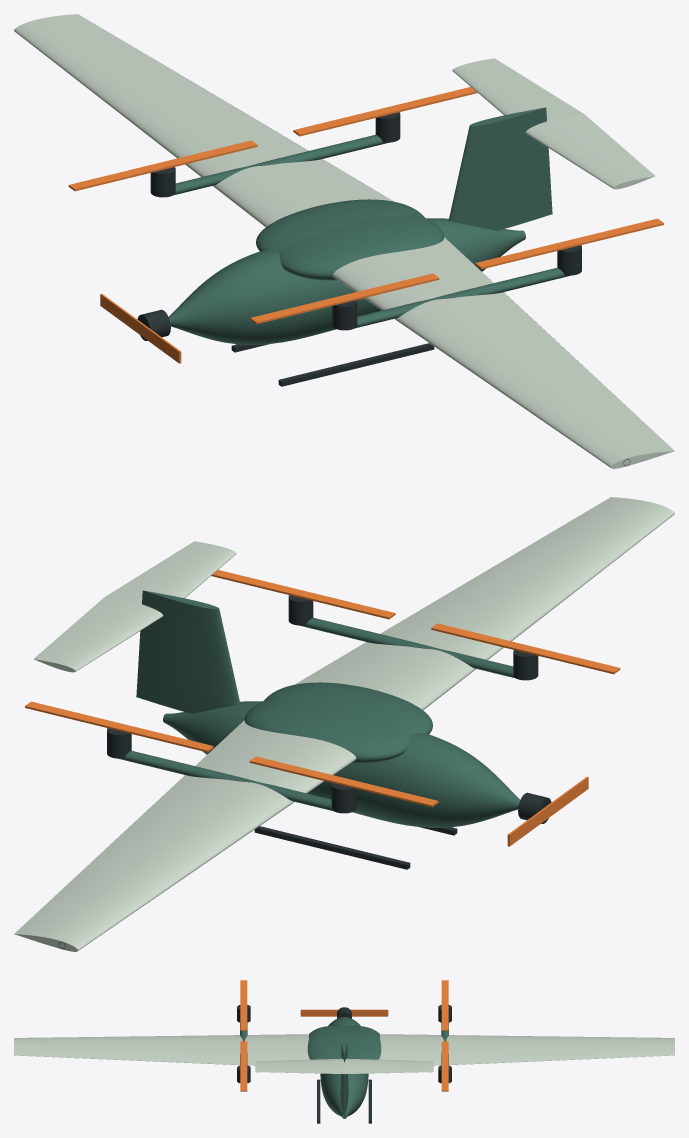
The model's file is control-04-model.glb.
3 views of the same model, one above another, from view 1: azimuth 30°, elevation 25°; view 2: azimuth 150°, elevation 25°; view 3: azimuth 270°, elevation 25° (orthographic). The views are drawn at different scales.
Parts seen in each view (by area): view 1: wing-1, wing1, fuselage, fin, root_fairing-1, tail-1, root_fairing1, tail1, boom_fairing-1, boom_fairing1, prop_-1_200.0, prop_1_200.0 (+7 smaller); view 2: wing1, wing-1, fuselage, fin, root_fairing1, tail1, root_fairing-1, tail-1, boom_fairing1, boom_fairing-1, prop_1_200.0, prop_-1_200.0 (+7 smaller); view 3: wing-1, wing1, fuselage, tail-1, tail1, root_fairing-1, root_fairing1, cruise_prop, fin, prop_-1_200.0, prop_-1_700.0, prop_1_200.0 (+1 smaller).
Part boxes in pixels (x1,y1,x2,y2): wing-1: (332,237,674,468); wing1: (14,14,393,227); fuselage: (168,218,525,344); fin: (448,107,552,230); root_fairing-1: (278,215,444,280); tail-1: (525,114,655,189); root_fairing1: (256,199,424,251); tail1: (452,58,583,121); boom_fairing-1: (355,267,569,328); boom_fairing1: (174,134,388,194); prop_-1_200.0: (250,273,439,324); prop_1_200.0: (68,140,257,191); wing1: (14,720,356,951); wing-1: (295,497,674,710); fuselage: (163,701,520,827); fin: (136,590,240,713); root_fairing1: (244,698,410,763); tail1: (33,597,163,672); root_fairing-1: (264,682,432,734); tail-1: (105,541,236,604); boom_fairing1: (119,750,333,811); boom_fairing-1: (300,617,514,677); prop_1_200.0: (249,756,438,807); prop_-1_200.0: (431,623,620,674); wing-1: (14,1034,309,1065); wing1: (379,1034,674,1065); fuselage: (320,1017,368,1118); tail-1: (255,1058,344,1074); tail1: (344,1058,433,1073); root_fairing-1: (307,1025,344,1059); root_fairing1: (344,1025,381,1059); cruise_prop: (300,1009,388,1016); fin: (340,1034,348,1116); prop_-1_200.0: (240,980,247,1030); prop_-1_700.0: (240,1041,247,1091); prop_1_200.0: (441,980,448,1030).
Bounding box in the file's own units: 989 × 405 × 2300.
